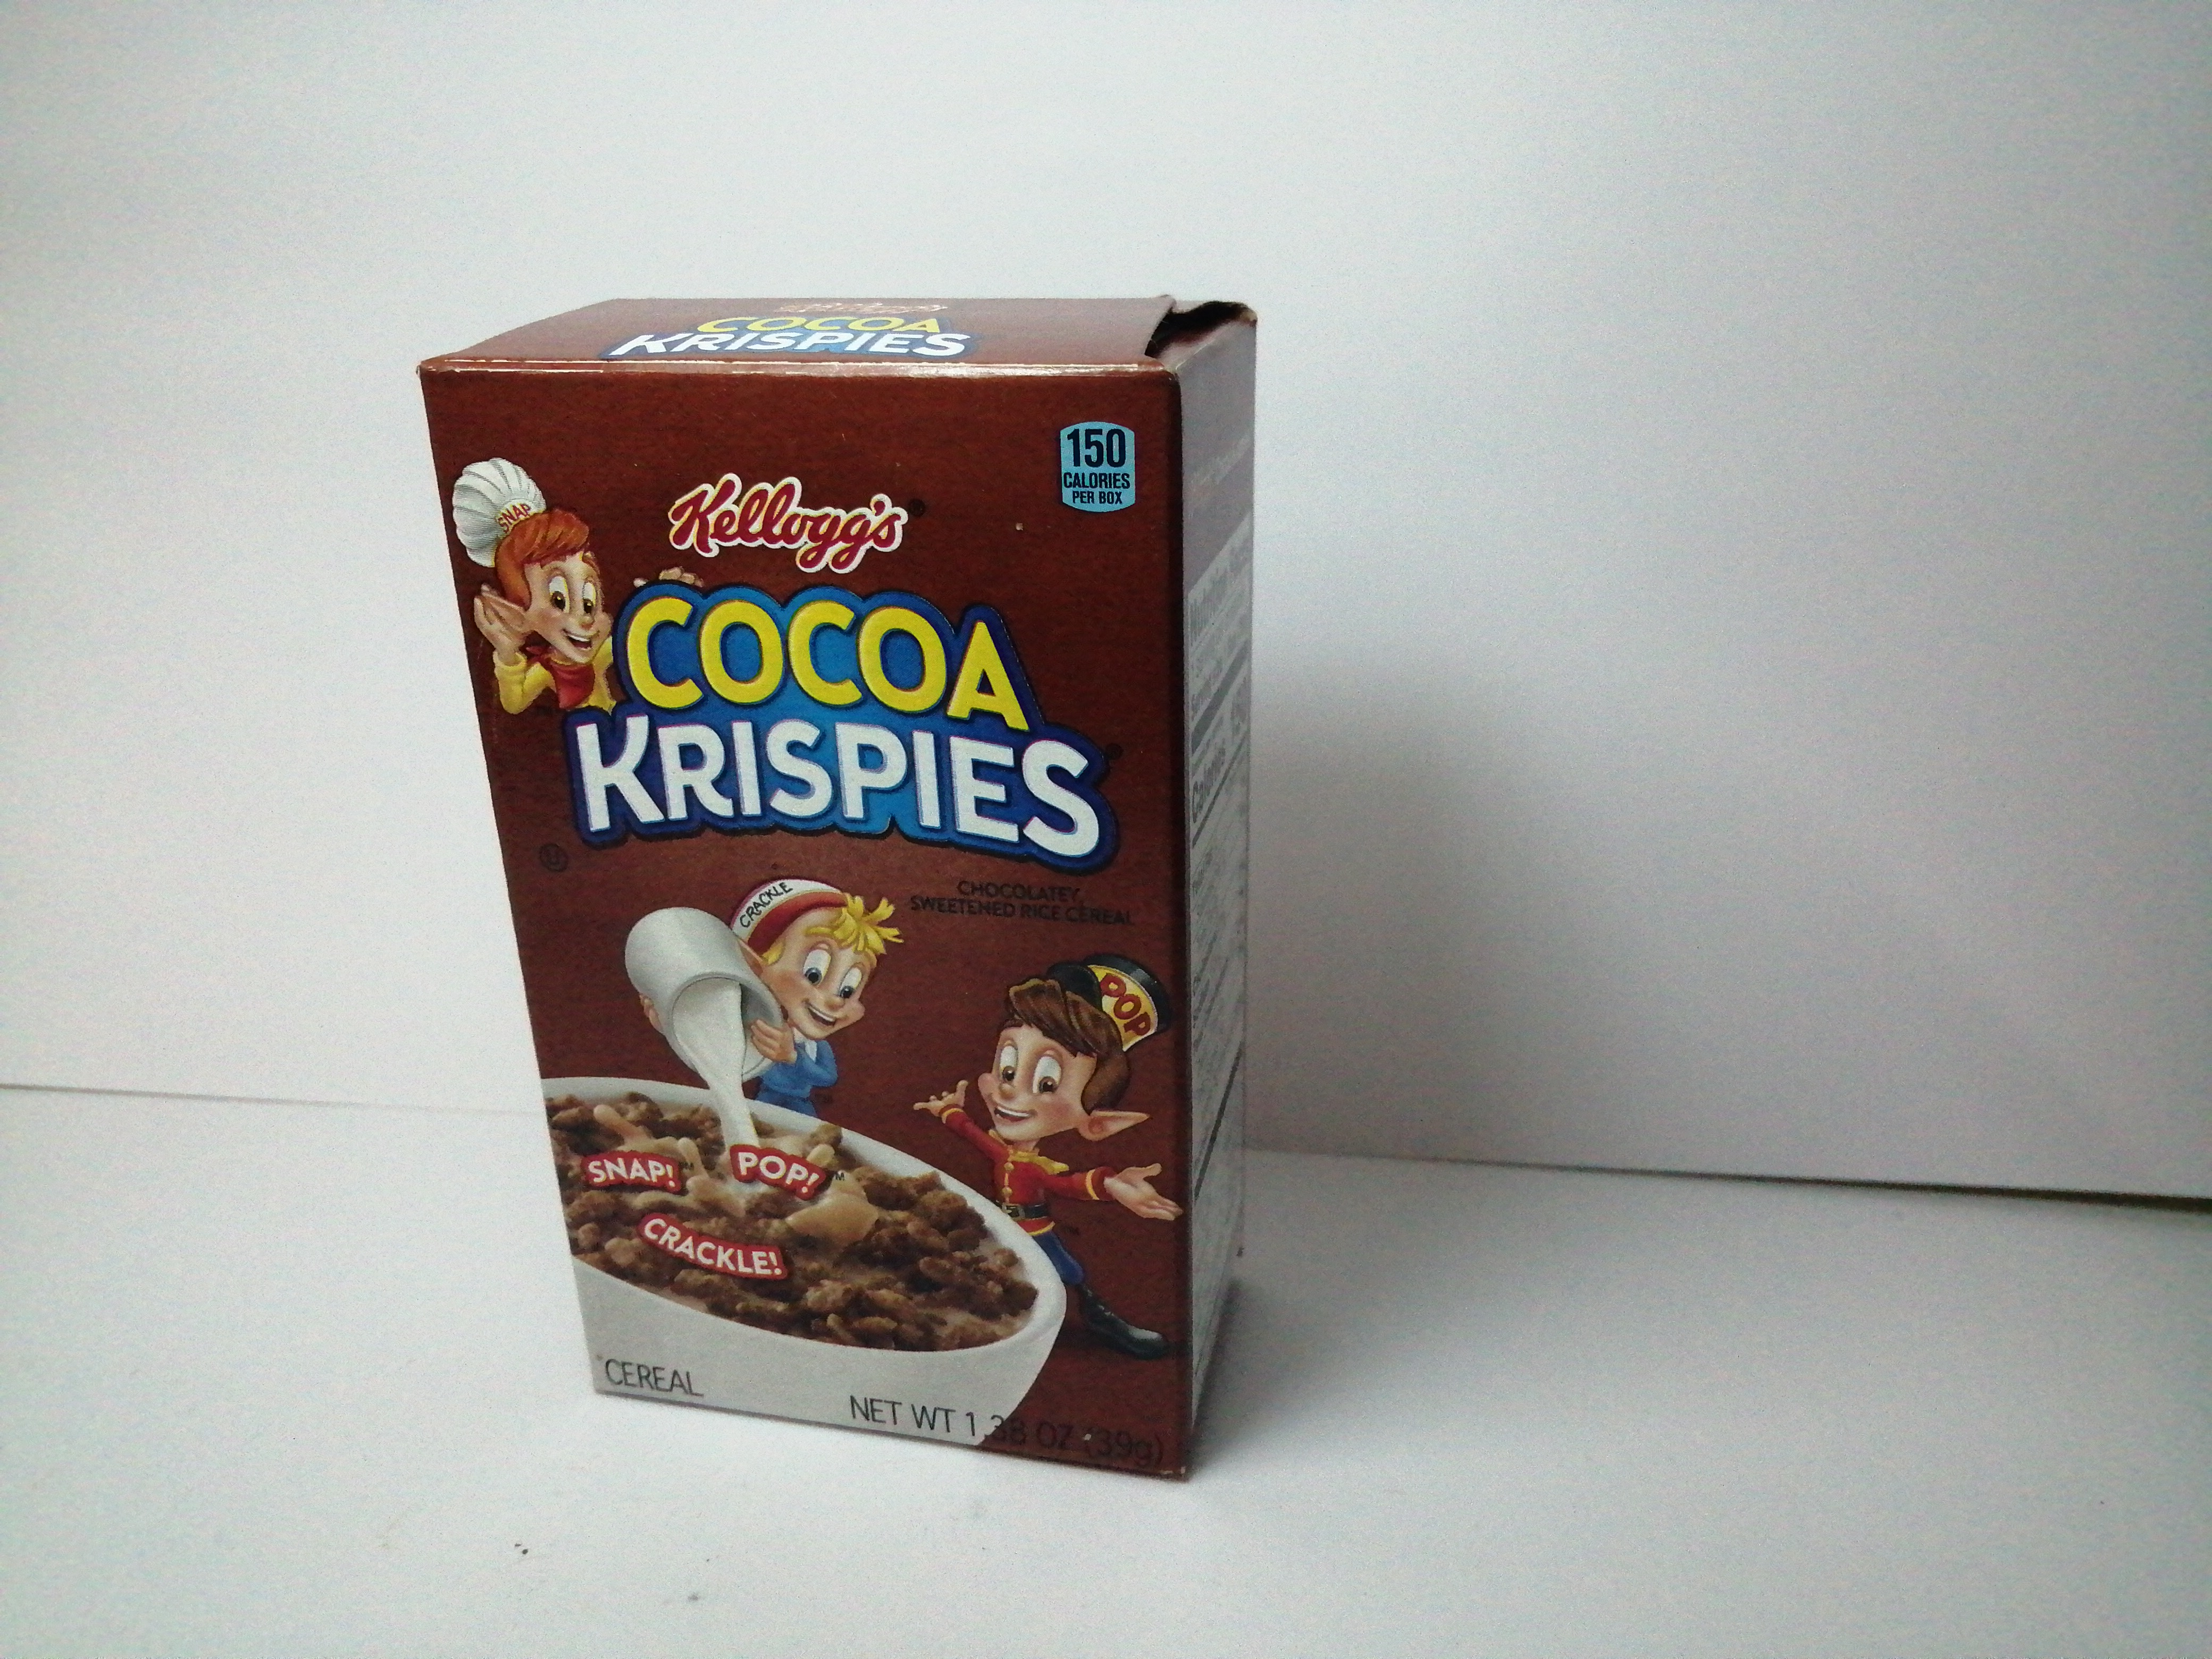cereal chocolate: (401, 281, 1327, 1485)
